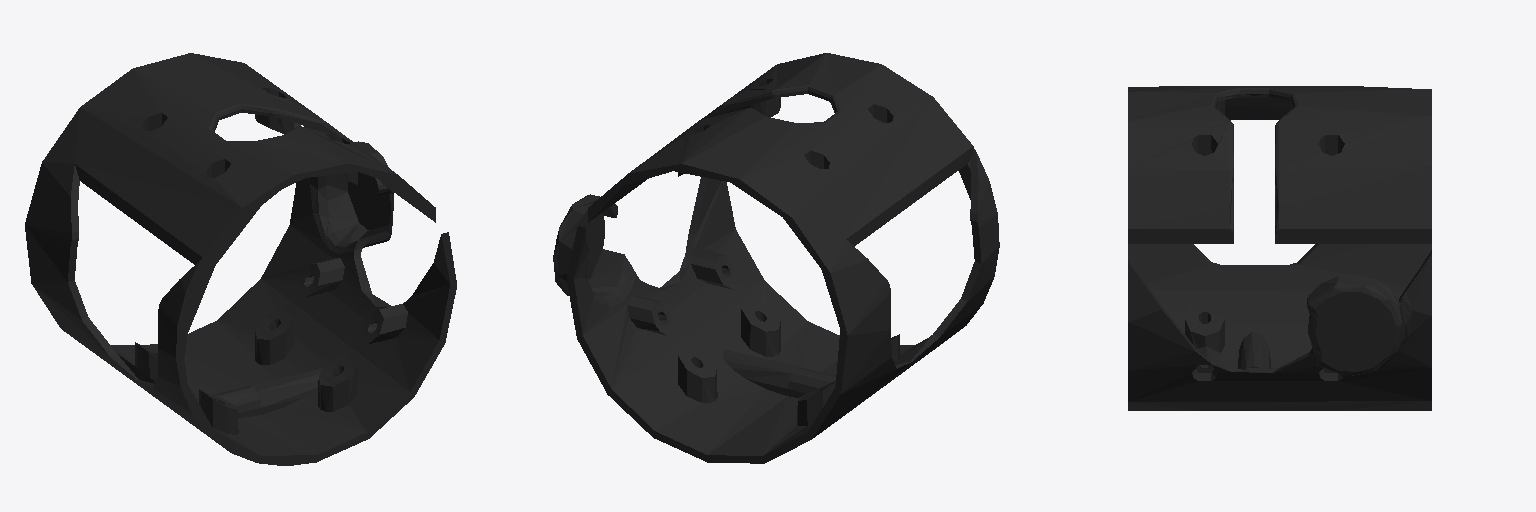
Rendered from asm0001_vrml_02_prt.obj.
3 views of the same model, side by side, from view 1: azimuth 30°, elevation 25°; view 2: azimuth 150°, elevation 25°; view 3: azimuth 270°, elevation 25° (orthographic).
Parts seen in each view (by area): view 1: ShapeIndexedFaceSet_ShapeIndexedFaceSet.013, ShapeIndexedFaceSet.001_ShapeIndexedFaceSet; view 2: ShapeIndexedFaceSet_ShapeIndexedFaceSet.013, ShapeIndexedFaceSet.001_ShapeIndexedFaceSet; view 3: ShapeIndexedFaceSet_ShapeIndexedFaceSet.013, ShapeIndexedFaceSet.001_ShapeIndexedFaceSet.
Boxes of the visible parts, x1=… form: ShapeIndexedFaceSet_ShapeIndexedFaceSet.013: x1=25, y1=53, x2=435, y2=465; ShapeIndexedFaceSet.001_ShapeIndexedFaceSet: x1=184, y1=123, x2=456, y2=461; ShapeIndexedFaceSet_ShapeIndexedFaceSet.013: x1=588, y1=53, x2=999, y2=463; ShapeIndexedFaceSet.001_ShapeIndexedFaceSet: x1=553, y1=177, x2=839, y2=461; ShapeIndexedFaceSet_ShapeIndexedFaceSet.013: x1=1128, y1=86, x2=1431, y2=369; ShapeIndexedFaceSet.001_ShapeIndexedFaceSet: x1=1128, y1=250, x2=1431, y2=410.
Bounding box in the file's own units: 2.25 × 2.03 × 1.89.